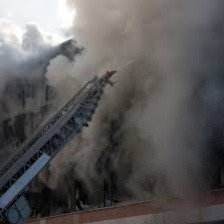smoke: (86, 2, 218, 194), (10, 20, 79, 97)
